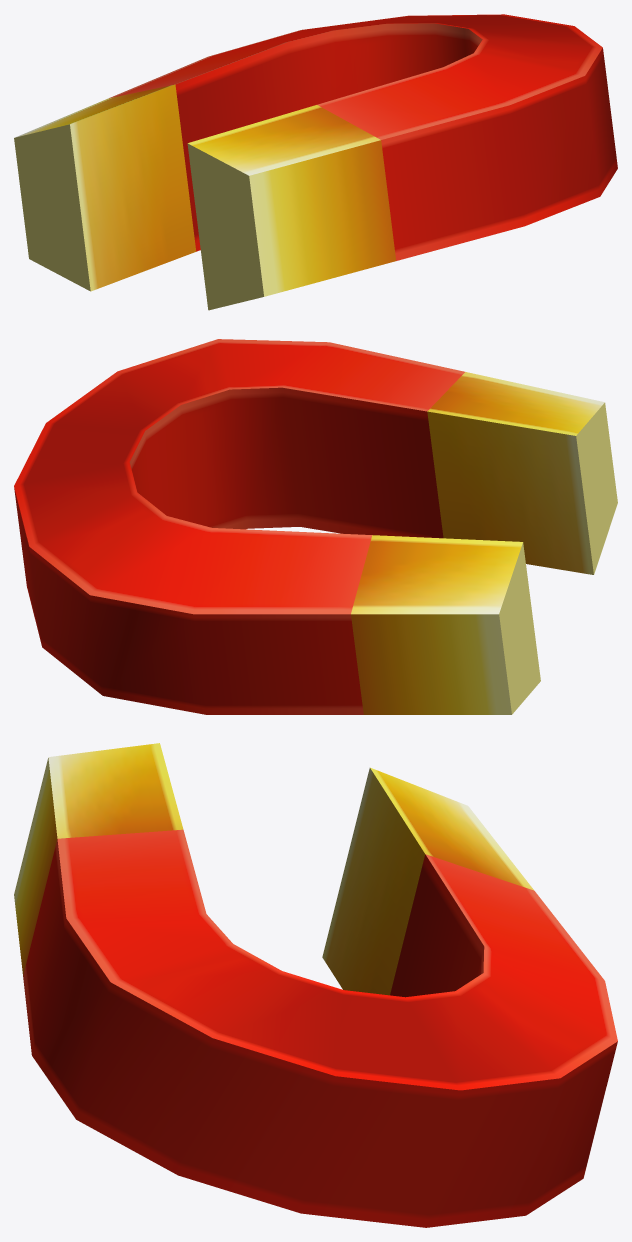
The model's file is magnet.glb.
The picture shows the model from 3 angles, top to bottom: view 1: azimuth 30°, elevation 25°; view 2: azimuth 150°, elevation 25°; view 3: azimuth 270°, elevation 25°; orthographic projection. The views are drawn at different scales.
Parts seen in each view (by area): view 1: Object_2; view 2: Object_2; view 3: Object_2.
Part boxes in pixels (x1=…): Object_2: x1=14, y1=14, x2=617, y2=310; Object_2: x1=14, y1=339, x2=617, y2=714; Object_2: x1=14, y1=743, x2=617, y2=1227.
Size of the model in its own units: 2.81 by 1.1 by 2.35.
Materials: 1 (1 with a texture image).
